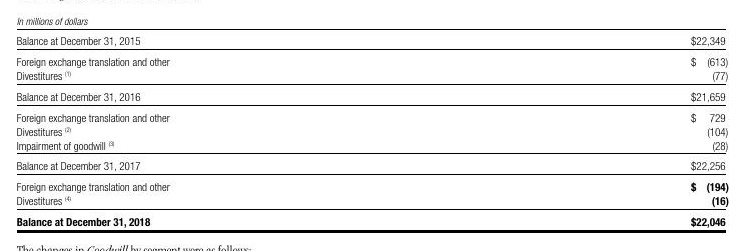table: (0, 0, 748, 251)
